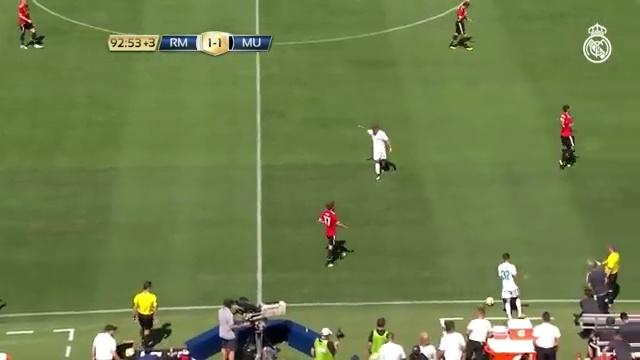football: (485, 297, 495, 306)
player: (318, 201, 347, 266), (497, 253, 522, 318), (367, 123, 394, 179), (18, 0, 43, 48), (449, 0, 472, 50), (559, 105, 575, 168)
referee: (133, 281, 156, 339), (602, 244, 619, 305)
